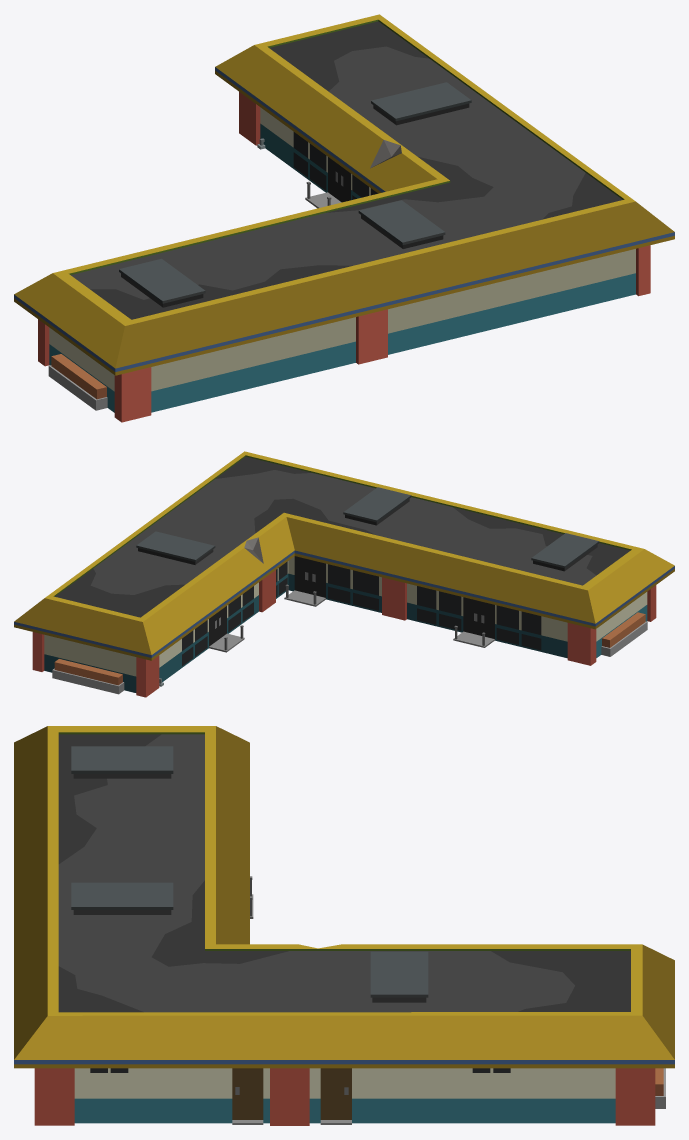
Rendered from SA_Bld_Mall_Damaged_01.glb.
The picture shows the model from 3 angles, top to bottom: view 1: azimuth 30°, elevation 25°; view 2: azimuth 150°, elevation 25°; view 3: azimuth 270°, elevation 25°; orthographic projection. The views are drawn at different scales.
Parts seen in each view (by area): view 1: SA_Bld_Mall_Damaged_01; view 2: SA_Bld_Mall_Damaged_01; view 3: SA_Bld_Mall_Damaged_01.
Part boxes in pixels (x1,y1,x2,y2): SA_Bld_Mall_Damaged_01: [14, 14, 674, 422]; SA_Bld_Mall_Damaged_01: [14, 451, 674, 697]; SA_Bld_Mall_Damaged_01: [14, 726, 674, 1125].
Bounding box in the file's own units: 18.14 × 2.97 × 15.96.
Materials: 1 (1 with a texture image).
